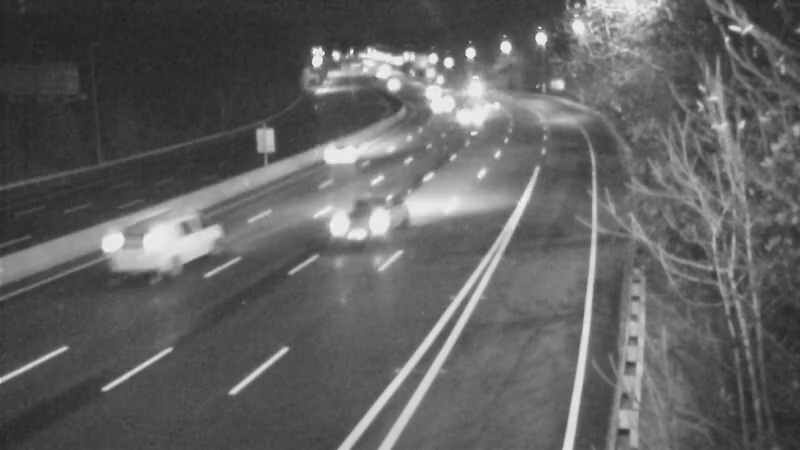vehicle: (295, 117, 375, 197), (322, 181, 402, 261), (102, 207, 182, 287), (364, 61, 414, 111), (404, 68, 454, 118), (449, 69, 499, 119), (413, 78, 463, 128), (465, 80, 515, 130), (445, 87, 495, 137)
